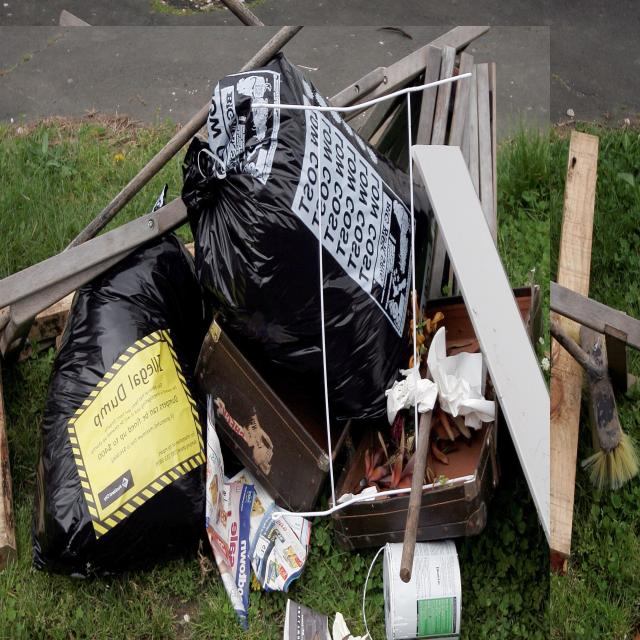dumping: (1, 26, 550, 640)
